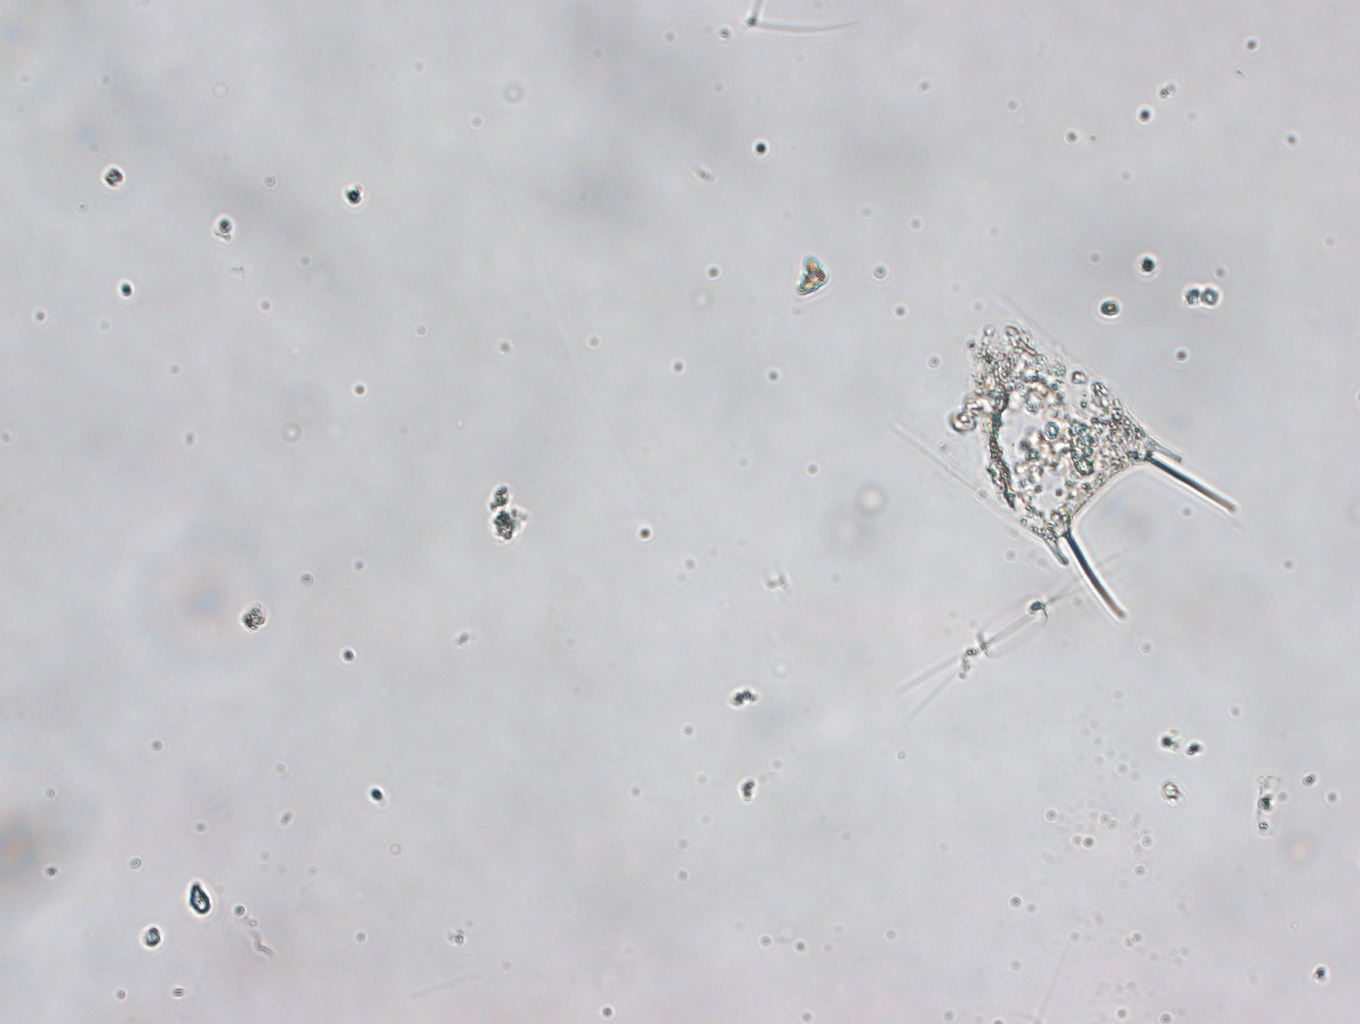biddulphia: (878, 294, 1236, 622)
